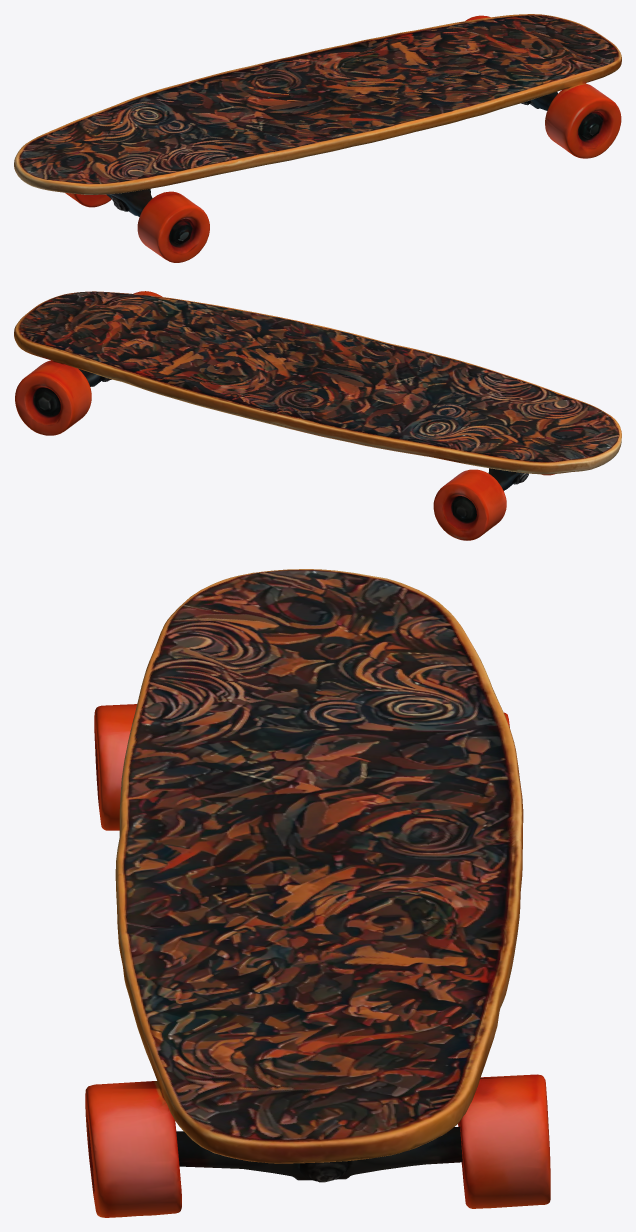
File: CCG_Deck_VicewaveSwell_web.glb
3 renders of one model, top to bottom at view 1: azimuth 30°, elevation 25°; view 2: azimuth 150°, elevation 25°; view 3: azimuth 270°, elevation 25°, orthographic. The views are drawn at different scales.
Visible parts, largest first — view 1: SM_Deck_VicewaveSwell; view 2: SM_Deck_VicewaveSwell; view 3: SM_Deck_VicewaveSwell.
Part boxes in pixels (x1,y1,x2,y2): SM_Deck_VicewaveSwell: (14,14,621,262); SM_Deck_VicewaveSwell: (14,291,621,540); SM_Deck_VicewaveSwell: (85,569,550,1217).
Size of the model in its own units: 0.82 by 0.116 by 0.2842.
Materials: 1 (1 with a texture image).
